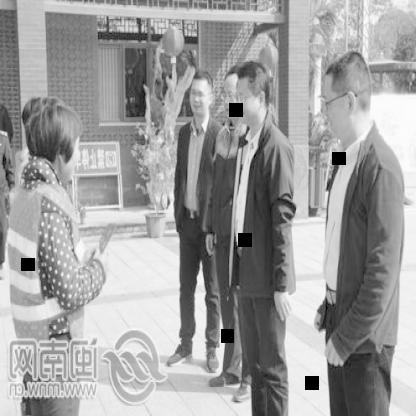head: (318, 47, 374, 145), (28, 94, 84, 182), (235, 59, 270, 126), (218, 68, 242, 128), (186, 72, 213, 121)
